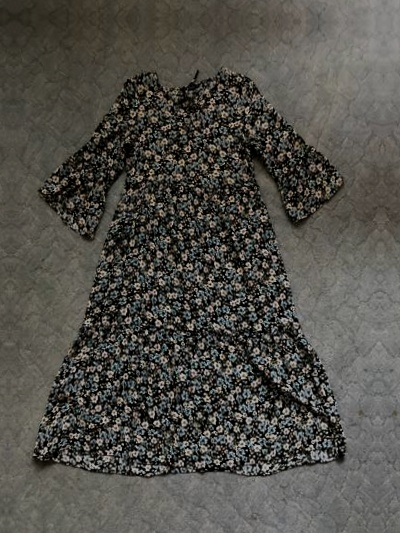Dress: (14, 42, 365, 488), (0, 36, 6, 482), (397, 48, 400, 494)
